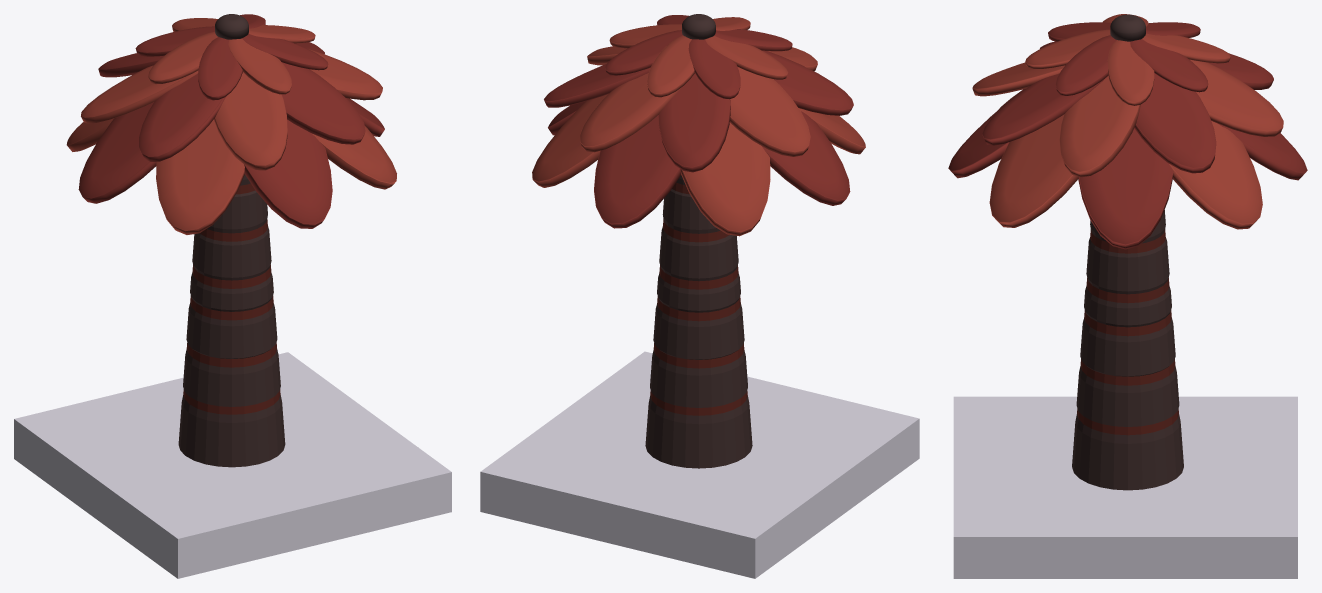
The model's file is lava_tree.fbx.
The picture shows the model from 3 angles, left to right: view 1: azimuth 30°, elevation 25°; view 2: azimuth 150°, elevation 25°; view 3: azimuth 270°, elevation 25°; orthographic projection. The views are drawn at different scales.
Visible parts, largest first — view 1: tree, white base.005; view 2: tree, white base.005; view 3: tree, white base.005.
Part boxes in pixels (box(x1,y1,x2,y2)): tree: box(66, 14, 396, 467); white base.005: box(14, 352, 451, 578); tree: box(532, 14, 865, 468); white base.005: box(480, 351, 919, 578); tree: box(948, 14, 1307, 490); white base.005: box(953, 396, 1297, 578).
Bounding box in the file's own units: 188 × 284 × 188.
